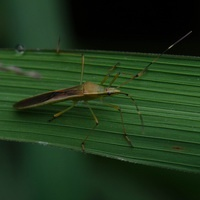insect: (13, 31, 191, 132)
